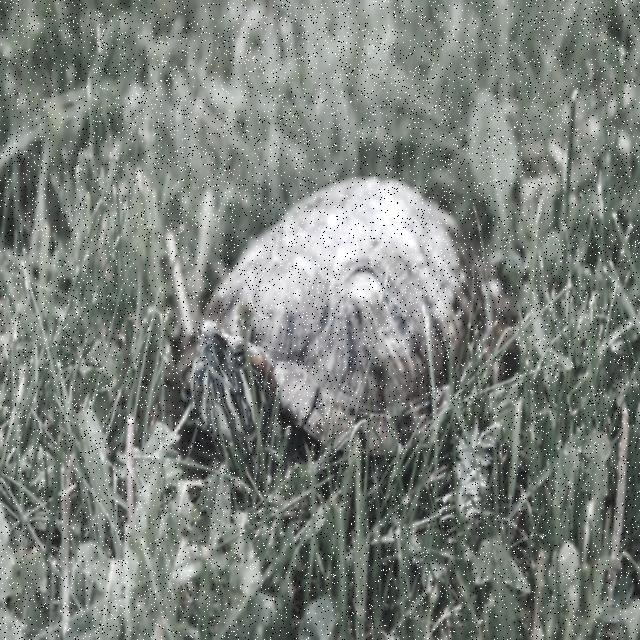tortoise: (152, 155, 508, 527)
